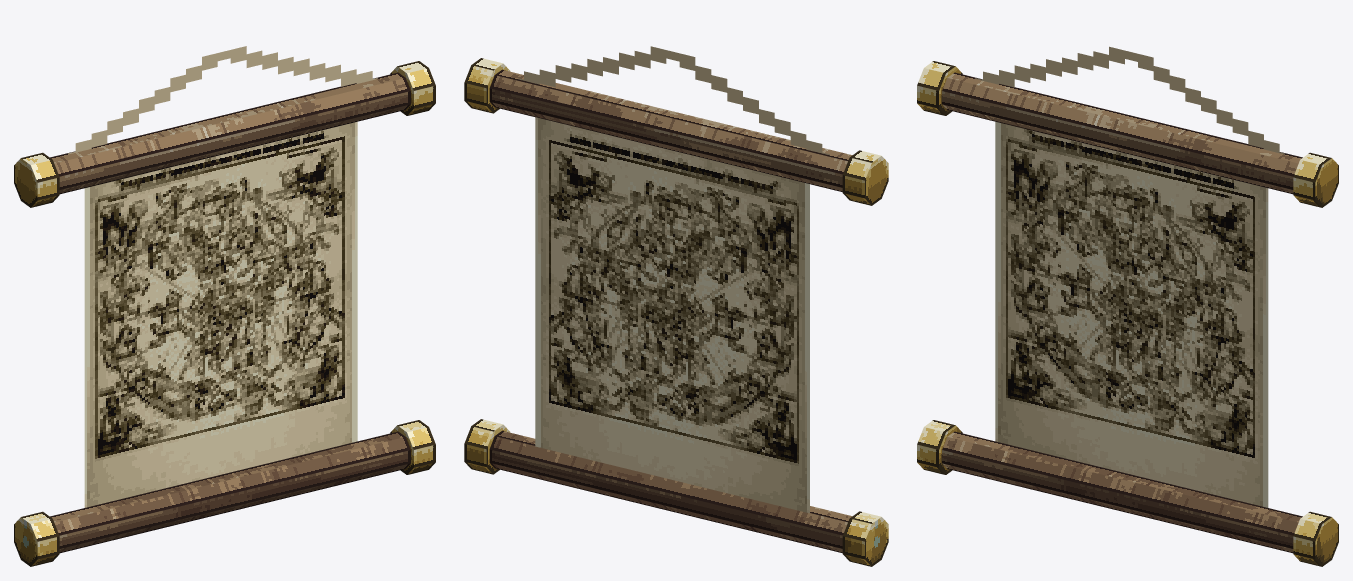
Rendered from starmap.glb.
The picture shows the model from 3 angles, left to right: view 1: azimuth 30°, elevation 25°; view 2: azimuth 150°, elevation 25°; view 3: azimuth 330°, elevation 25°; orthographic projection.
Visible parts, largest first — view 1: chart, rod1, rod0, cord, cap0-1, cap1-1, cap01, cap11; view 2: chart, rod0, rod1, cord, cap1-1, cap0-1, cap01, cap11; view 3: chart, rod1, rod0, cord, cap01, cap11, cap0-1, cap1-1.
Boxes of the visible parts, x1=… form: chart: x1=84, y1=121, x2=357, y2=507; rod1: x1=50, y1=431, x2=410, y2=553; rod0: x1=50, y1=72, x2=410, y2=194; cord: x1=68, y1=46, x2=377, y2=154; cap0-1: x1=14, y1=152, x2=59, y2=207; cap1-1: x1=14, y1=511, x2=59, y2=566; cap01: x1=390, y1=61, x2=435, y2=115; cap11: x1=390, y1=420, x2=435, y2=474; chart: x1=535, y1=117, x2=809, y2=513; rod0: x1=489, y1=69, x2=852, y2=191; rod1: x1=489, y1=430, x2=852, y2=552; cord: x1=518, y1=46, x2=829, y2=155; cap1-1: x1=842, y1=511, x2=888, y2=566; cap0-1: x1=842, y1=150, x2=888, y2=205; cap01: x1=464, y1=58, x2=510, y2=113; cap11: x1=464, y1=419, x2=510, y2=474; chart: x1=995, y1=121, x2=1268, y2=507; rod1: x1=942, y1=431, x2=1302, y2=553; rod0: x1=942, y1=72, x2=1302, y2=194; cord: x1=975, y1=46, x2=1284, y2=154; cap01: x1=1293, y1=152, x2=1338, y2=207; cap11: x1=1293, y1=511, x2=1338, y2=566; cap0-1: x1=917, y1=61, x2=962, y2=115; cap1-1: x1=917, y1=420, x2=962, y2=474.
Size of the model in its own units: 0.675 by 0.7471 by 0.0693.
Materials: 2 (2 with a texture image).
